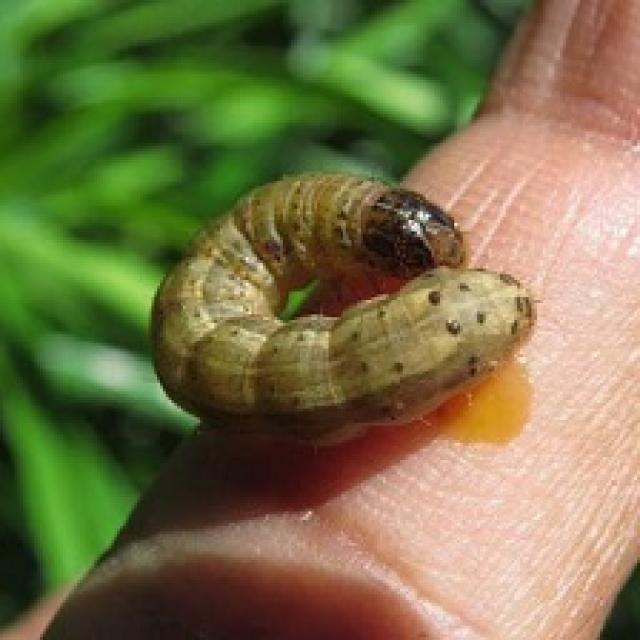worm: (147, 167, 535, 447)
